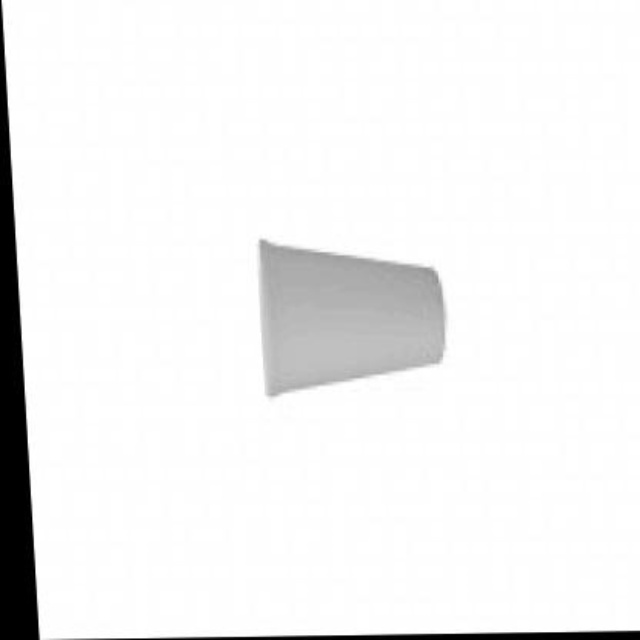trash: (260, 240, 443, 394)
